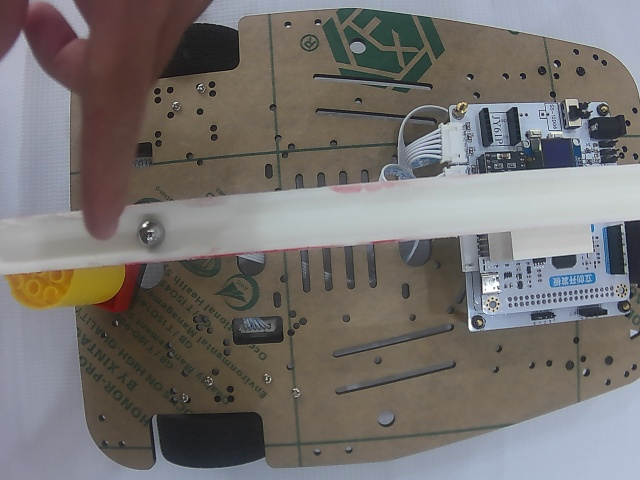steelball: (136, 218, 165, 248)
